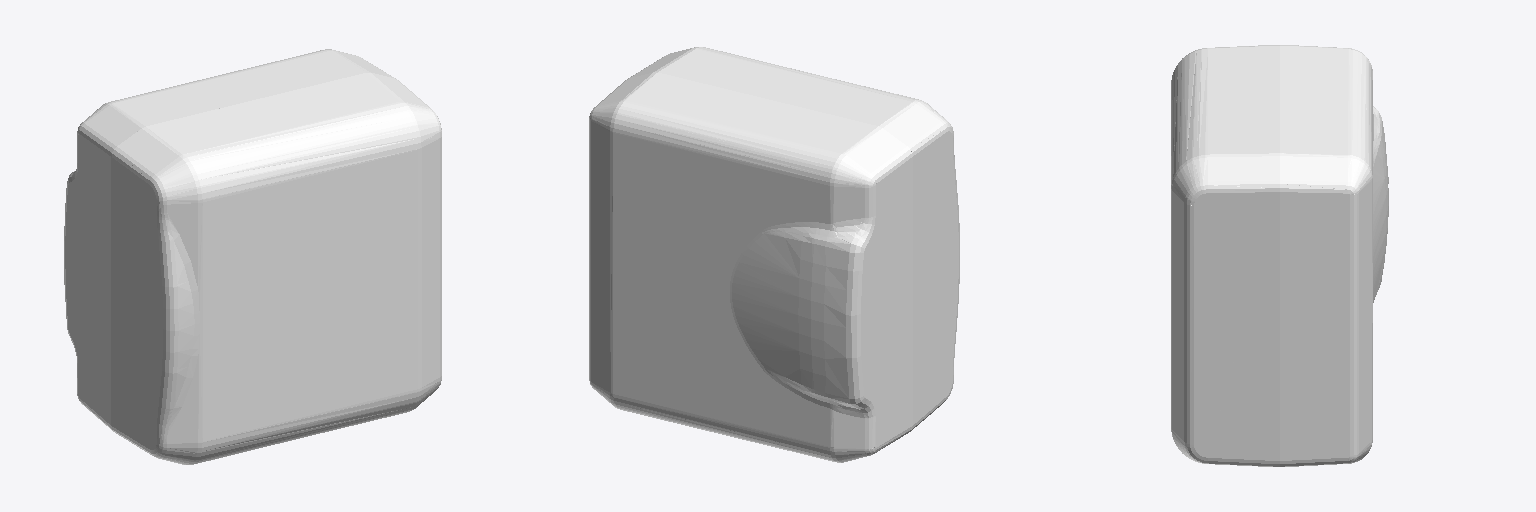
File: gripper_link.obj
3 views of the same model, side by side, from view 1: azimuth 30°, elevation 25°; view 2: azimuth 150°, elevation 25°; view 3: azimuth 270°, elevation 25° (orthographic).
Bounding box in the file's own units: 0.122 × 0.1261 × 0.0795.